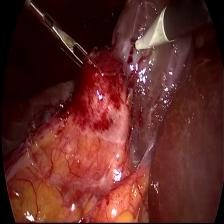Grasper: (21, 0, 90, 72), (128, 5, 172, 66)
